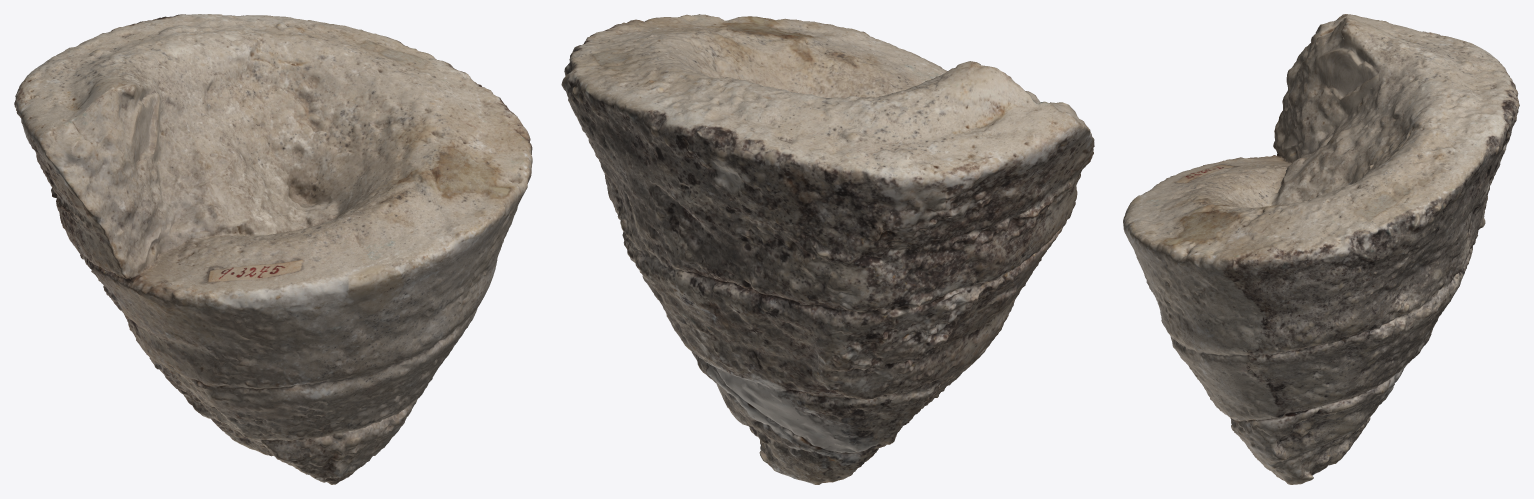
The model's file is EWS0016385.glb.
The picture shows the model from 3 angles, left to right: view 1: azimuth 30°, elevation 25°; view 2: azimuth 150°, elevation 25°; view 3: azimuth 270°, elevation 25°; orthographic projection. The views are drawn at different scales.
Visible parts, largest first — view 1: input2; view 2: input2; view 3: input2.
Boxes of the visible parts, x1,y1,x2,y2 form: input2: [14, 14, 532, 484]; input2: [561, 14, 1094, 484]; input2: [1123, 14, 1519, 484].
Bounding box in the file's own units: 0.1321 × 0.1189 × 0.1133.
1 material, 1 textured.
